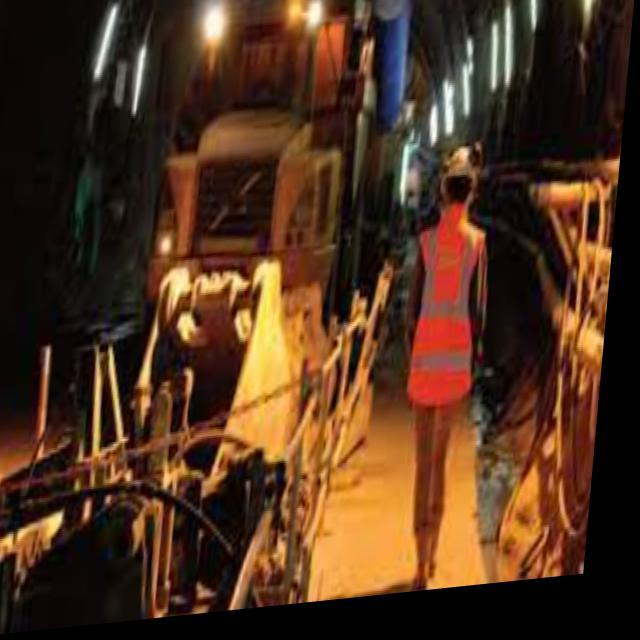helmet: (434, 140, 488, 218)
vest: (401, 195, 494, 416)
